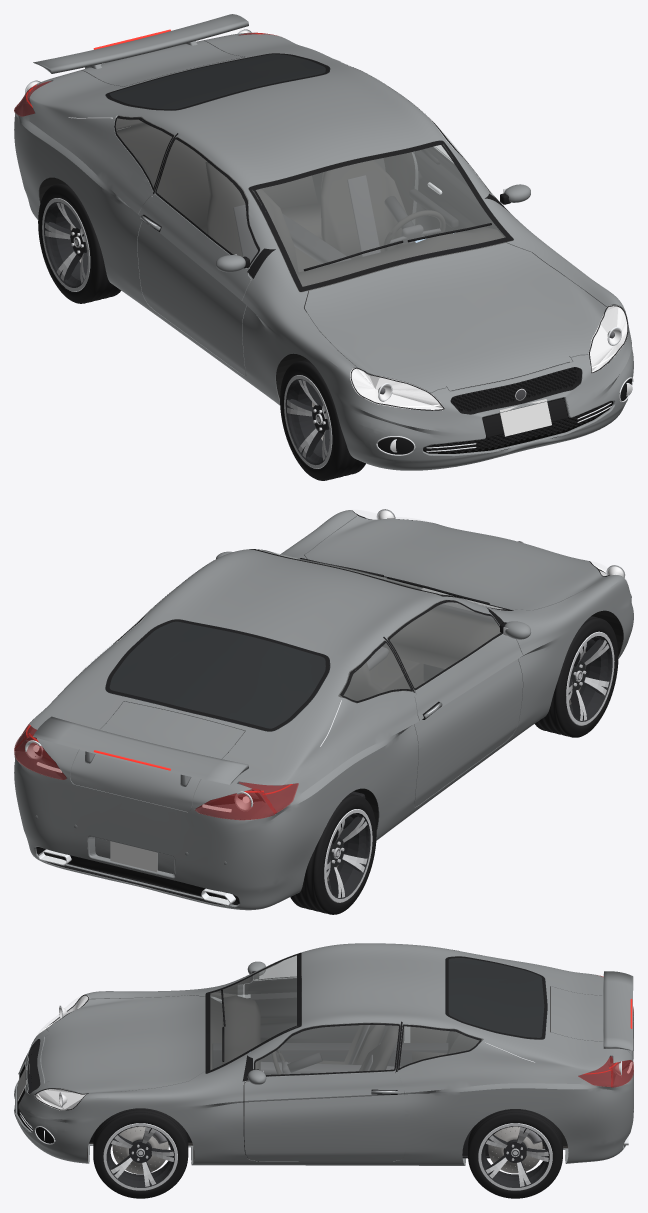
The model's file is coupe-lod0.glb.
3 views of the same model, one above another, from view 1: azimuth 30°, elevation 25°; view 2: azimuth 150°, elevation 25°; view 3: azimuth 270°, elevation 25° (orthographic). The views are drawn at different scales.
Visible parts, largest first — view 1: Body, HoodSkin, Windscreen, Panel_FR, Window_FR, RearWindow, SeatMesh_Rear_Back, Seat_FL_Back, Panel_FL, Spoiler, Wheel_RR_Lip, Wheel_FR_Lip (+19 smaller); view 2: Body, RearWindow, HoodSkin, Panel_FR, TrunkSkin, Window_FR, Spoiler, Dash, Wheel_FR_Lip, Wheel_RR_Lip, Wheel_RR_Tyre, Wheel_FR_Tyre (+13 smaller); view 3: Body, HoodSkin, Panel_FL, Windscreen, RearWindow, Window_FL, Panel_FR, Wheel_FL_Tyre, Wheel_RL_Tyre, Wheel_RL_Lip, Wheel_FL_Lip, TrunkSkin (+16 smaller).
Boxes of the visible parts, bbox=[...] form: Body: bbox=[14, 32, 633, 470]; HoodSkin: bbox=[304, 243, 606, 393]; Windscreen: bbox=[248, 140, 513, 291]; Panel_FR: bbox=[137, 193, 251, 375]; Window_FR: bbox=[155, 137, 260, 268]; RearWindow: bbox=[105, 53, 330, 110]; SeatMesh_Rear_Back: bbox=[116, 122, 317, 227]; Seat_FL_Back: bbox=[321, 160, 409, 259]; Panel_FL: bbox=[414, 146, 513, 242]; Spoiler: bbox=[33, 14, 248, 73]; Wheel_RR_Lip: bbox=[42, 198, 90, 291]; Wheel_FR_Lip: bbox=[284, 375, 332, 468]; Body: bbox=[14, 510, 633, 910]; RearWindow: bbox=[105, 619, 330, 731]; HoodSkin: bbox=[304, 516, 605, 610]; Panel_FR: bbox=[413, 634, 522, 807]; TrunkSkin: bbox=[70, 701, 244, 811]; Window_FR: bbox=[387, 599, 503, 690]; Spoiler: bbox=[33, 716, 248, 784]; Dash: bbox=[378, 608, 500, 668]; Wheel_FR_Lip: bbox=[566, 631, 614, 725]; Wheel_RR_Lip: bbox=[324, 809, 372, 902]; Wheel_RR_Tyre: bbox=[290, 793, 376, 914]; Wheel_FR_Tyre: bbox=[535, 616, 618, 737]; Body: bbox=[14, 943, 633, 1165]; HoodSkin: bbox=[41, 995, 205, 1094]; Panel_FL: bbox=[244, 1071, 405, 1160]; Windscreen: bbox=[205, 953, 301, 1073]; RearWindow: bbox=[445, 956, 547, 1039]; Window_FL: bbox=[254, 1023, 400, 1076]; Panel_FR: bbox=[244, 978, 404, 1042]; Wheel_FL_Tyre: bbox=[93, 1108, 188, 1198]; Wheel_RL_Tyre: bbox=[468, 1109, 562, 1198]; Wheel_RL_Lip: bbox=[478, 1123, 552, 1190]; Wheel_FL_Lip: bbox=[103, 1123, 177, 1190]; TrunkSkin: bbox=[551, 986, 633, 1059].
Size of what is drawn, in the model's own units: 2.03 by 1.34 by 4.5.
